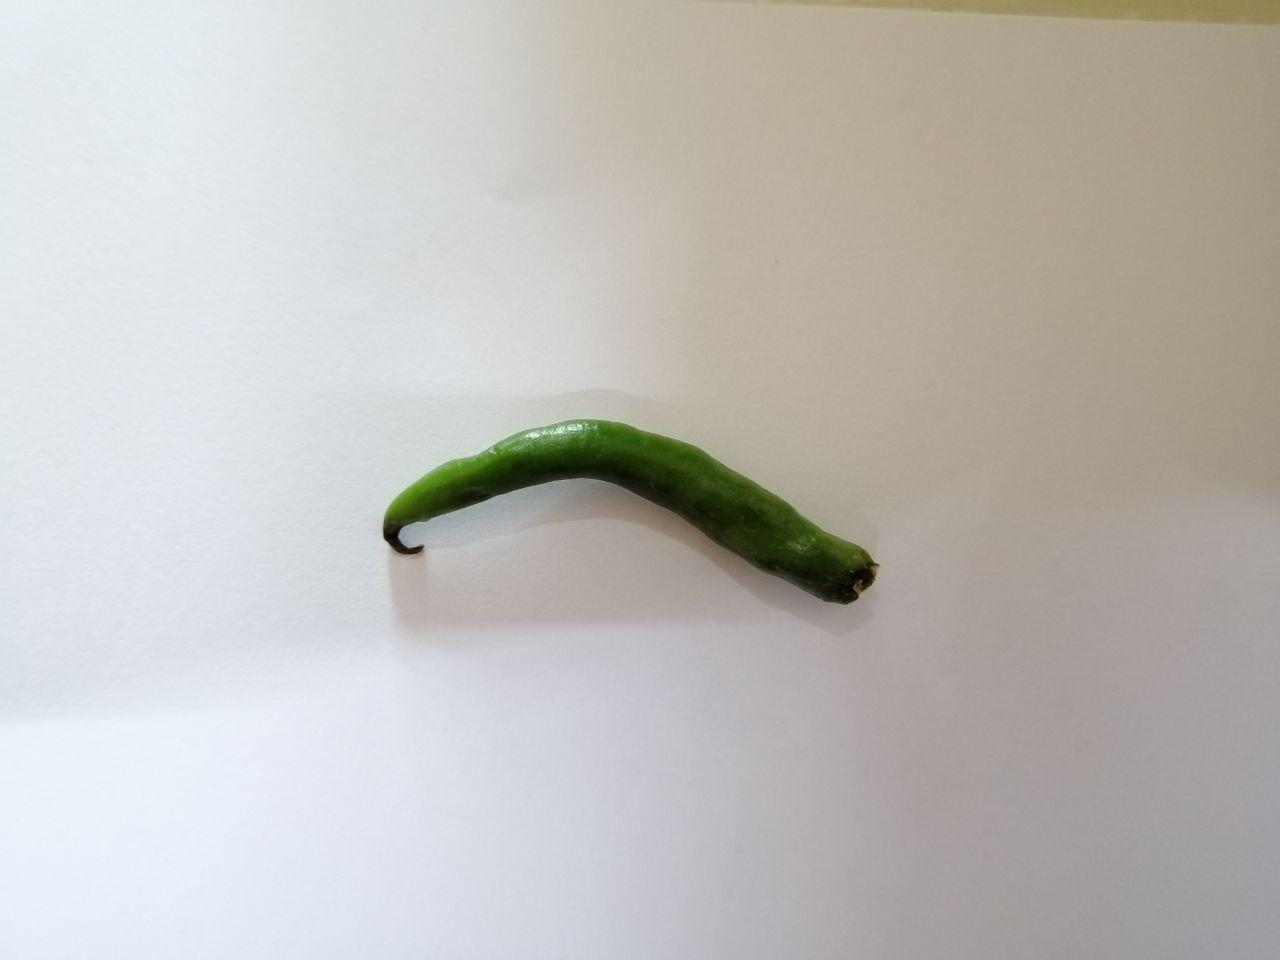lada hijau: (372, 394, 912, 672)
